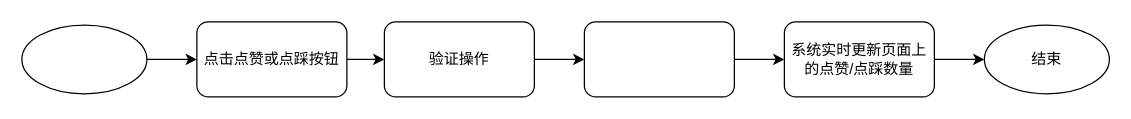
Image size: 1131x119. Some labels were removed from this diagram. Here are the shapes that lost their labels. From the top down, the centre of each, then its label:
(x=84, y=59): 开始
(x=658, y=59): 更新数据
